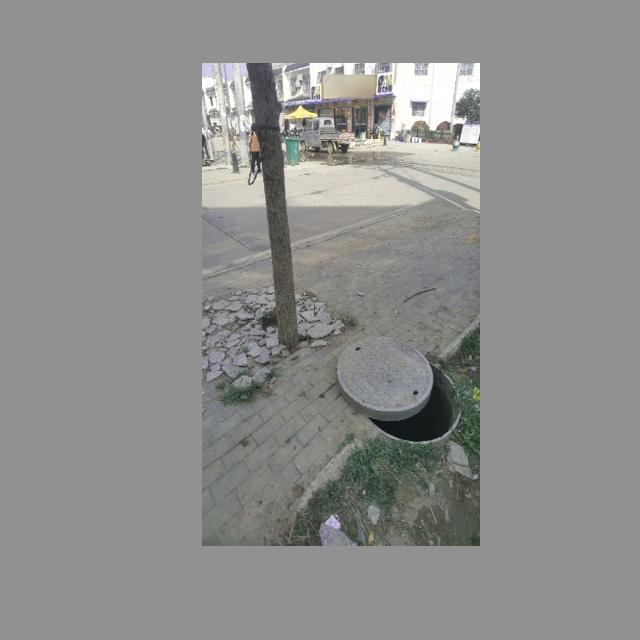uncovered: (337, 336, 464, 444)
